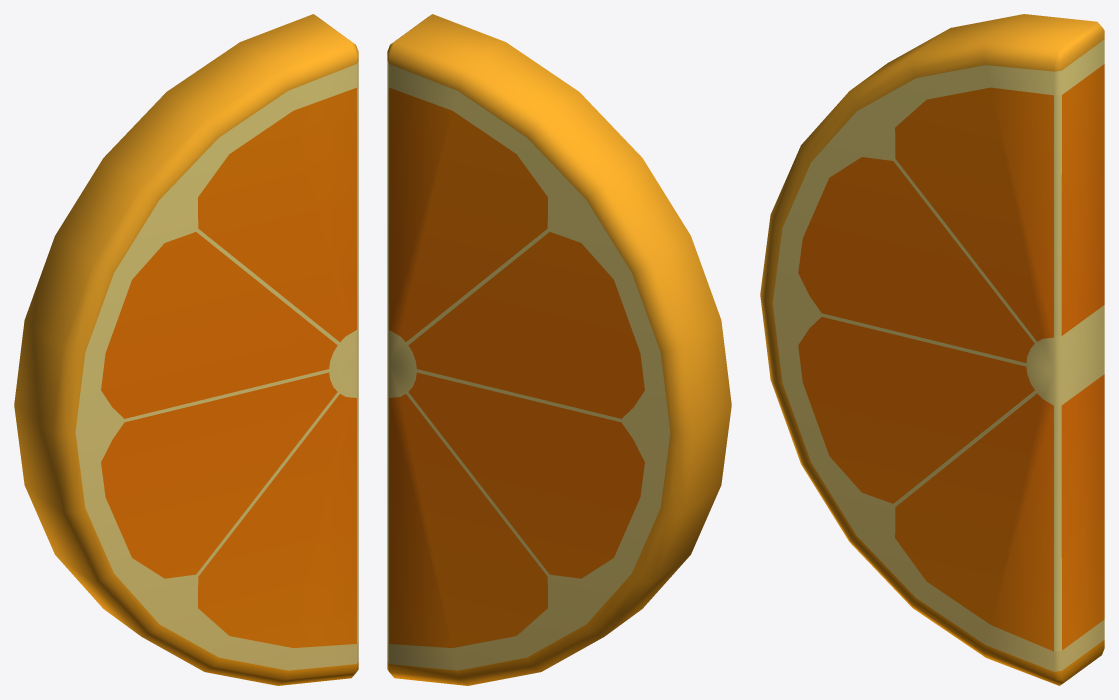
File: Half_a_orange_wedge.fbx
The picture shows the model from 3 angles, left to right: view 1: azimuth 30°, elevation 25°; view 2: azimuth 150°, elevation 25°; view 3: azimuth 330°, elevation 25°; orthographic projection.
Visible parts, largest first — view 1: Half_a_orange_wedge; view 2: Half_a_orange_wedge; view 3: Half_a_orange_wedge.
Part boxes in pixels (left/top/right/bottom): Half_a_orange_wedge: left=14, top=14, right=358, bottom=685; Half_a_orange_wedge: left=387, top=14, right=731, bottom=685; Half_a_orange_wedge: left=760, top=14, right=1104, bottom=685.
Size of the model in its own units: 62.81 by 126 by 17.45.
